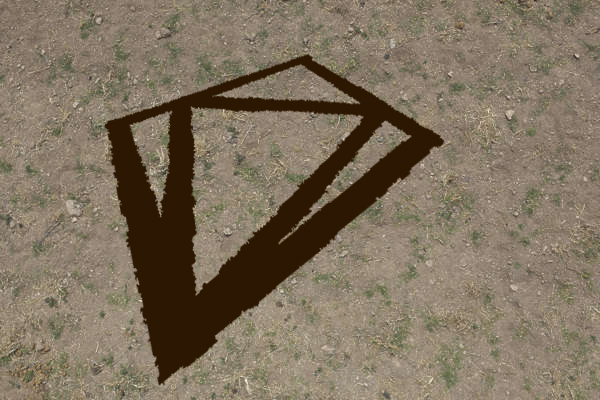marker: (101, 45, 450, 390)
